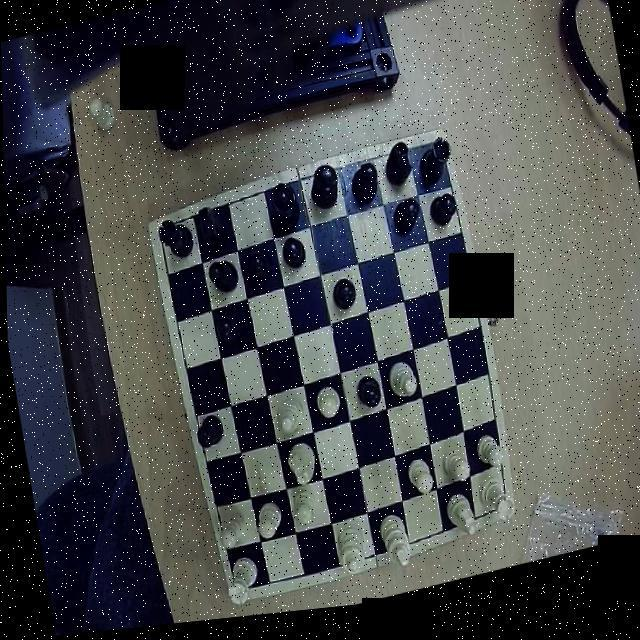chess-table-corners: (149, 218, 185, 253), (416, 142, 450, 175), (222, 572, 254, 606), (486, 499, 512, 530)
